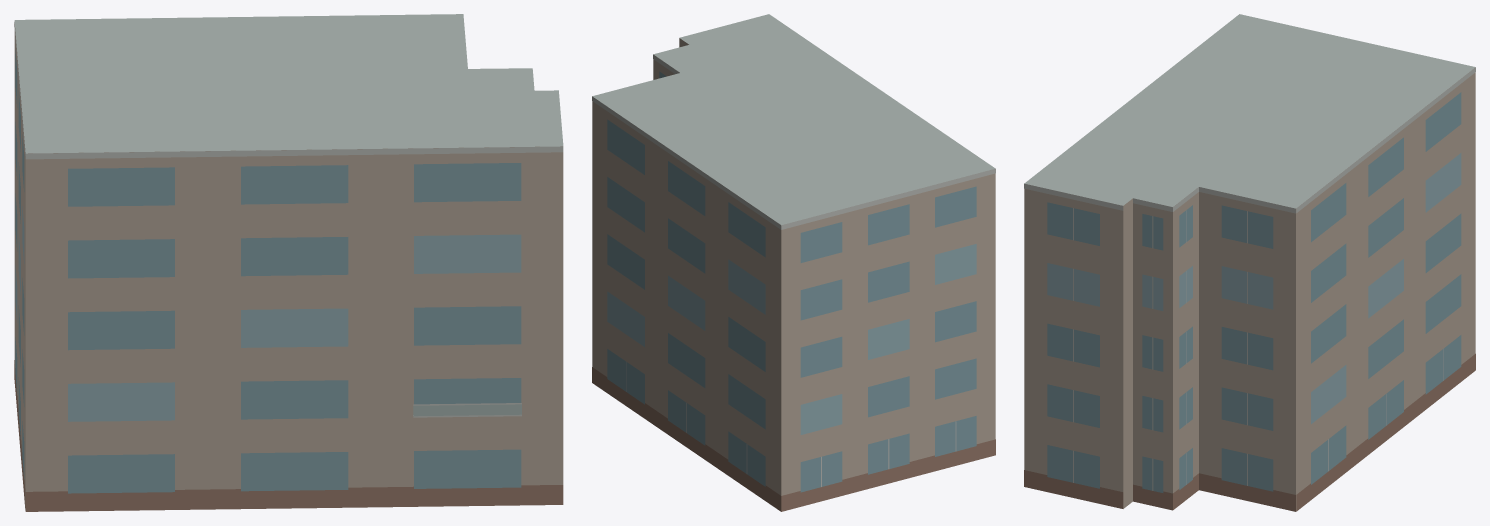
Rendered from survey-upis-32690850.glb.
3 renders of one model, left to right at view 1: azimuth 30°, elevation 25°; view 2: azimuth 150°, elevation 25°; view 3: azimuth 270°, elevation 25°, orthographic. The views are drawn at different scales.
Parts seen in each view (by area): view 1: survey-upis-32690850.tmp; view 2: survey-upis-32690850.tmp; view 3: survey-upis-32690850.tmp.
Boxes of the visible parts, x1,y1,x2,y2 form: survey-upis-32690850.tmp: (14,14,563,511); survey-upis-32690850.tmp: (592,14,995,511); survey-upis-32690850.tmp: (1024,14,1475,511).
Bounding box in the file's own units: 20.38 × 14.8 × 19.98.
